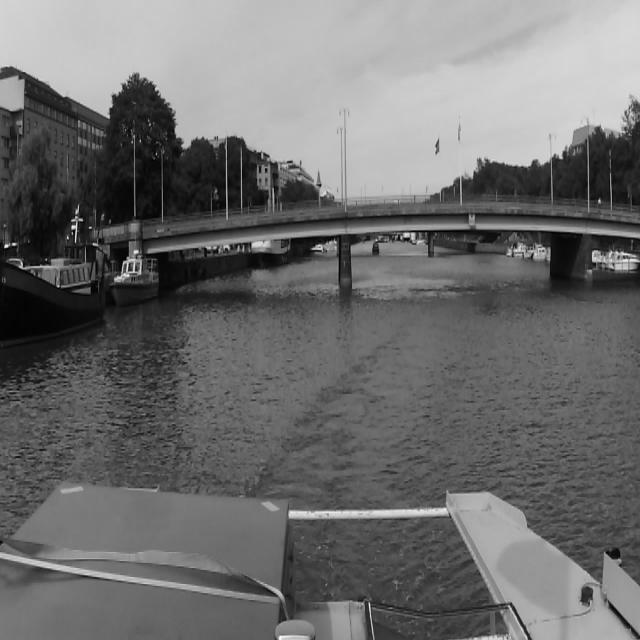ship: (0, 207, 108, 329), (112, 250, 160, 306), (251, 234, 301, 266), (610, 253, 638, 273), (311, 243, 327, 256), (372, 243, 380, 256)
